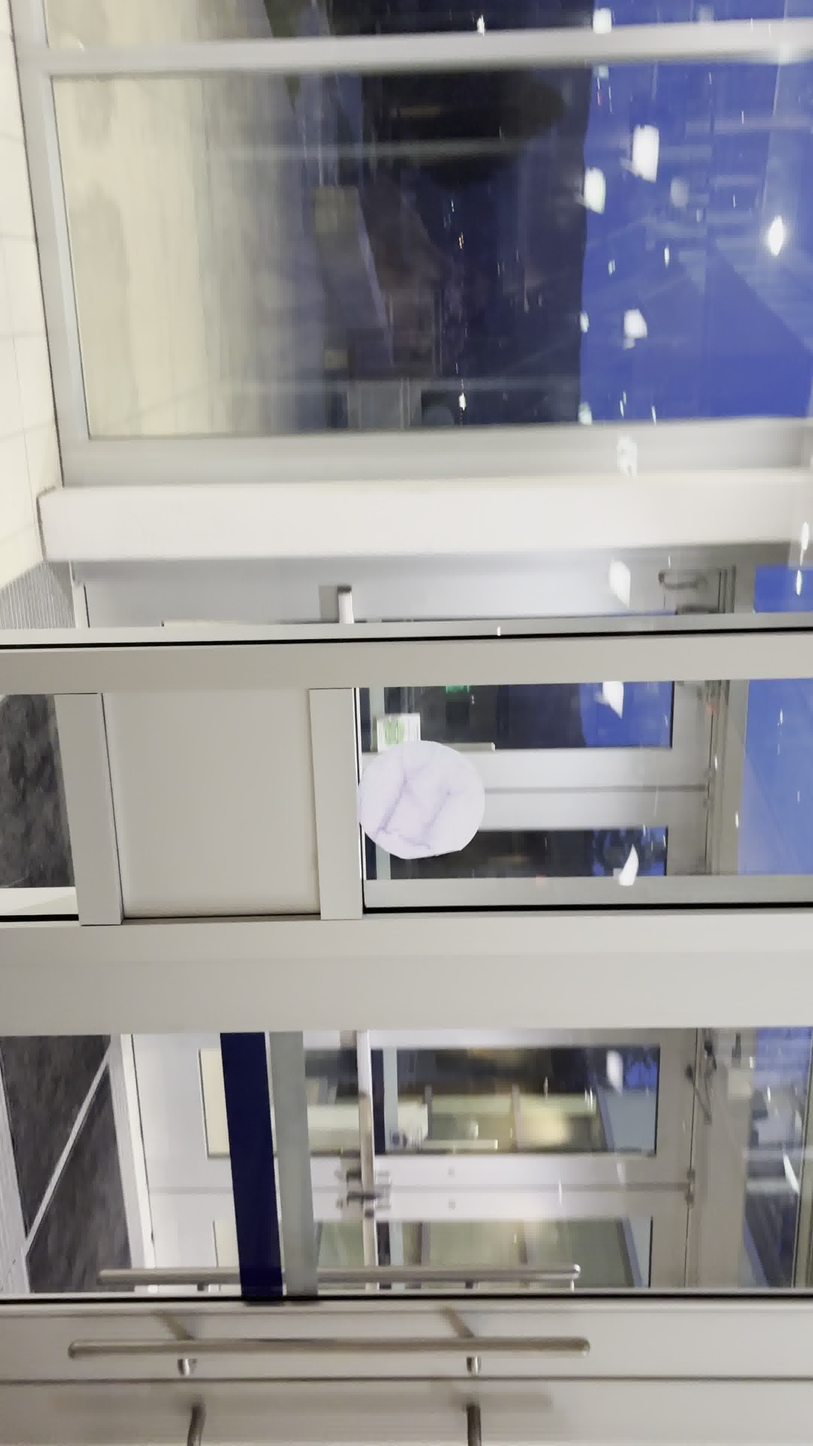Target: (355, 739, 487, 861)
